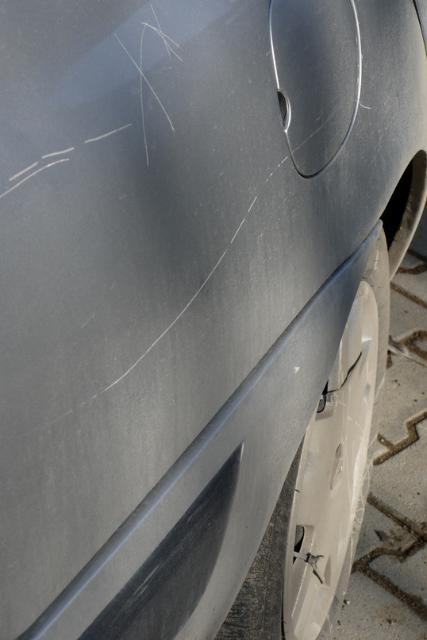Fender: (15, 2, 377, 420)
